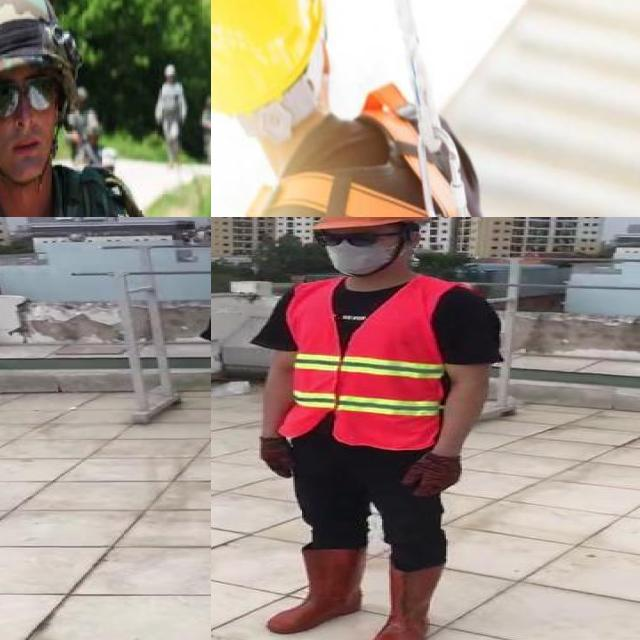Harness: (271, 84, 472, 217)
boots: (268, 548, 368, 633), (371, 564, 444, 640)
face_mask: (314, 226, 396, 276)
face_nomask: (0, 71, 59, 166)
glasses: (0, 73, 57, 122), (304, 227, 394, 250)
hand_glove: (402, 453, 464, 498), (258, 436, 296, 479)
head_helmet: (0, 0, 80, 91), (308, 217, 423, 236)
person: (251, 217, 505, 640), (0, 0, 189, 217), (154, 56, 185, 178)
vest: (279, 276, 451, 446)
